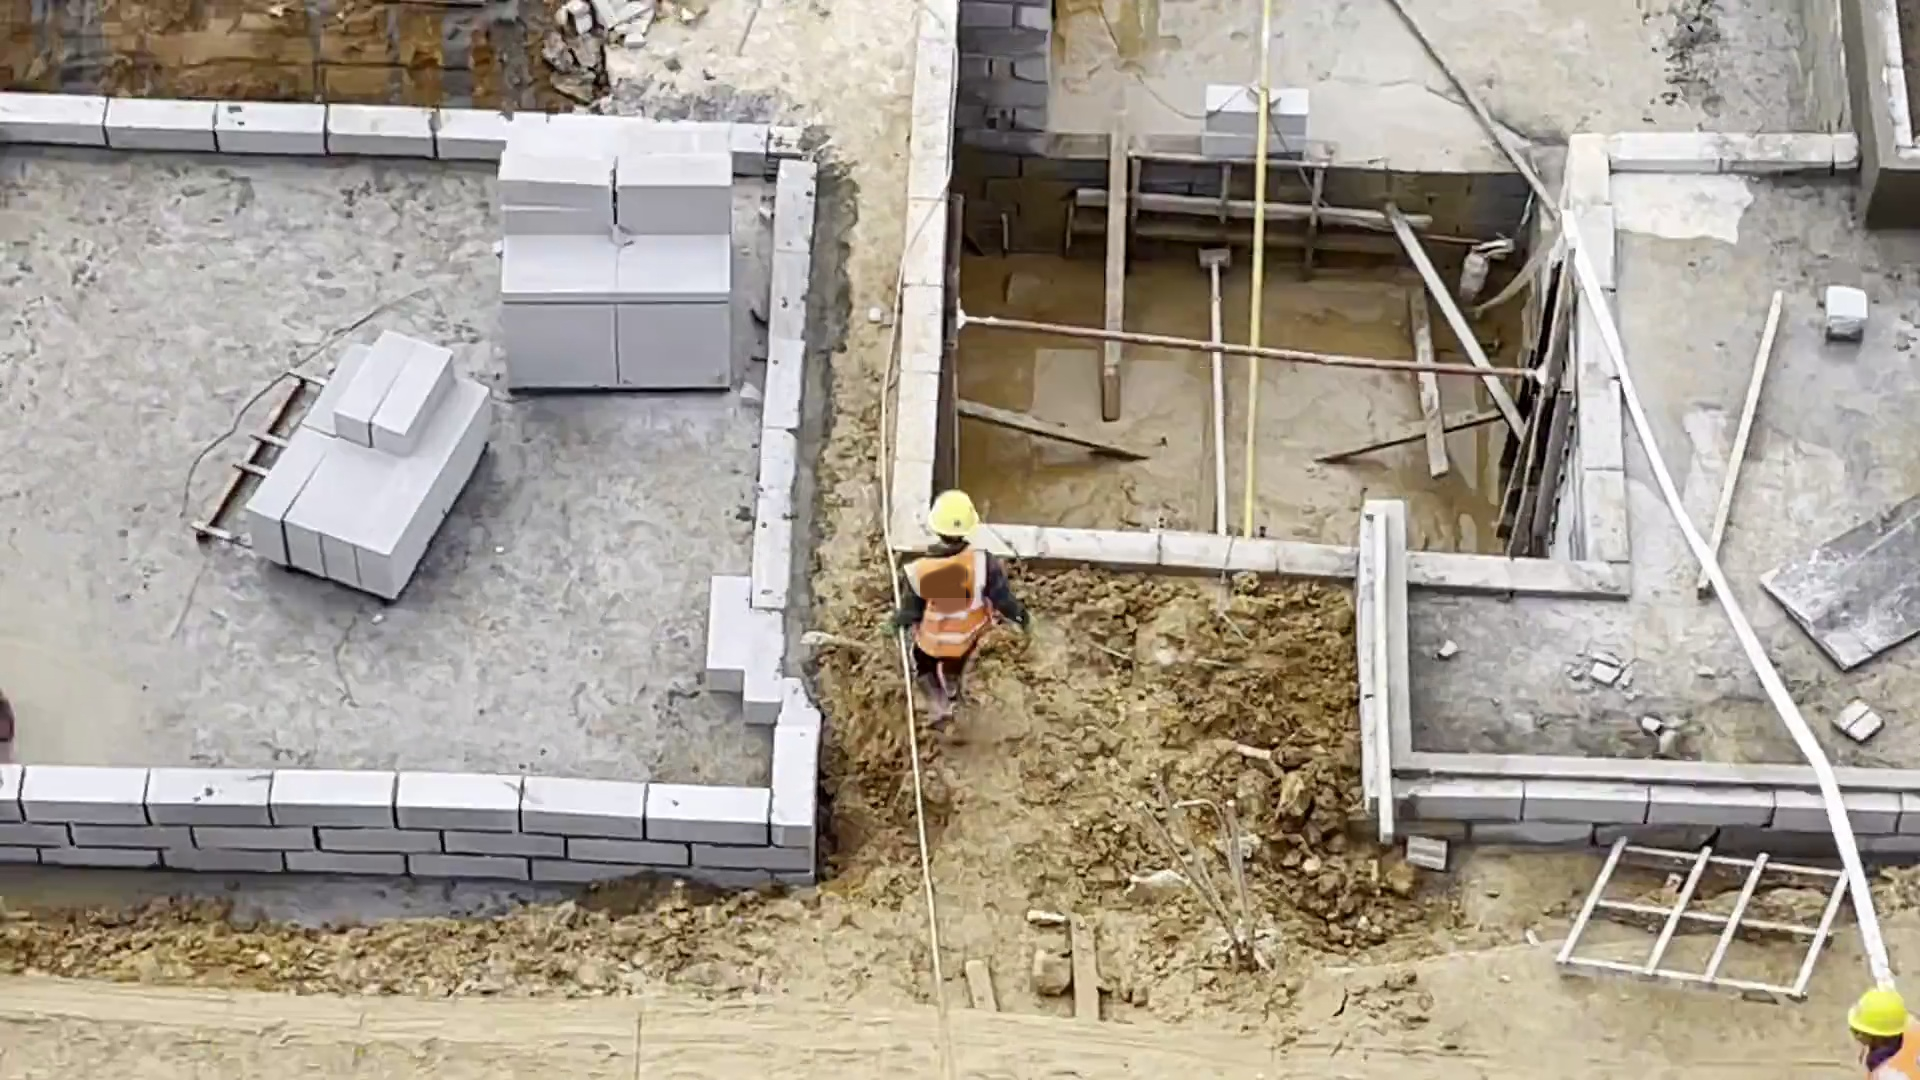helmet: (1848, 989, 1911, 1040), (926, 486, 981, 537)
person: (886, 481, 1029, 705), (1851, 984, 1920, 1078)
vest: (900, 537, 998, 657), (1867, 1017, 1920, 1079)
